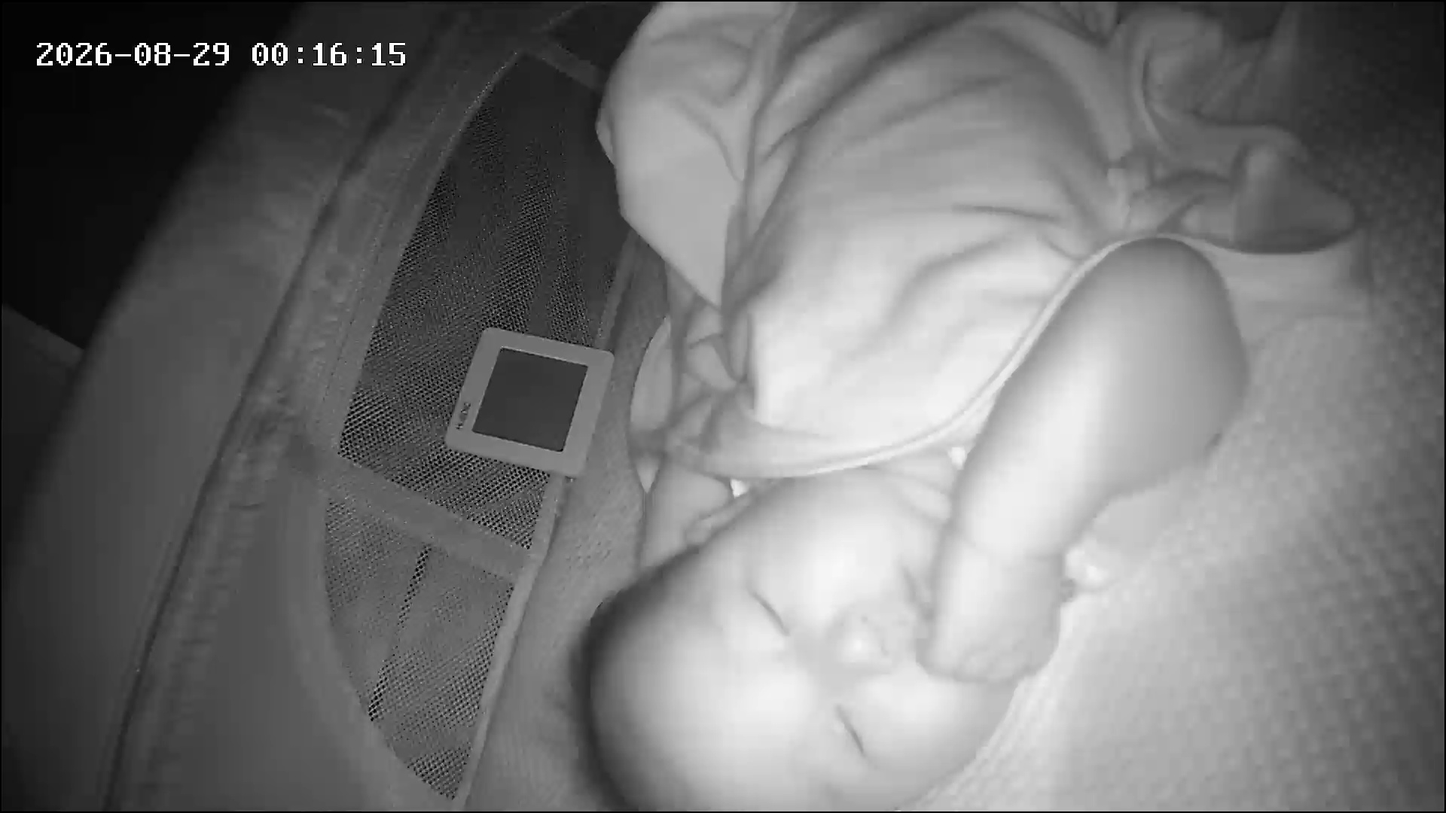baby: (543, 5, 1294, 813)
